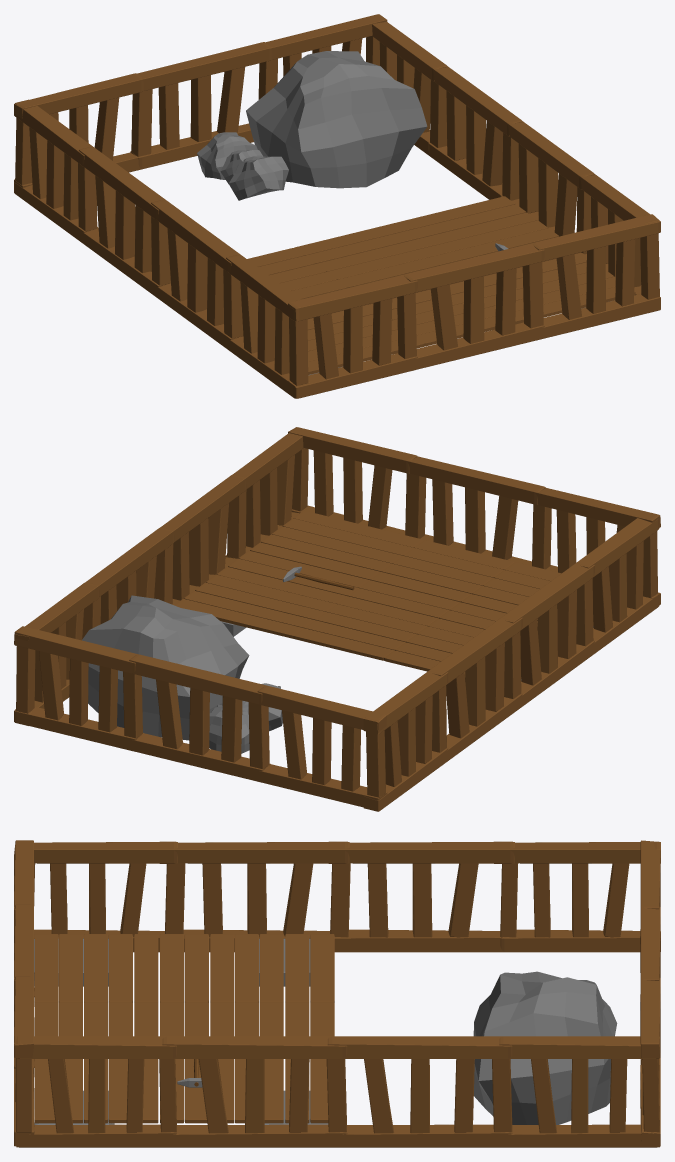
Rendered from SM_StoneQuarry.fbx.
3 views of the same model, one above another, from view 1: azimuth 30°, elevation 25°; view 2: azimuth 150°, elevation 25°; view 3: azimuth 270°, elevation 25° (orthographic). The views are drawn at different scales.
Visible parts, largest first — view 1: SM_FenceSection.001, SM_Boulder_Large_01, SM_FloorBoard_2M.005, SM_FloorBoard_2M.003, SM_FloorBoard_2M.004, SM_FloorBoard_2M.006, SM_Boulder_Small_01.002, SM_FloorBoard_2M.002, SM_Boulder_Small_01, SM_FloorBoard_2M.001, SM_Boulder_Small_01.001; view 2: SM_FenceSection.001, SM_Boulder_Large_01, SM_FloorBoard_2M.003, SM_FloorBoard_2M.005, SM_FloorBoard_2M.004, SM_FloorBoard_2M.006, SM_FloorBoard_2M.001, SM_FloorBoard_2M.002, SM_Boulder_Small_01; view 3: SM_FenceSection.001, SM_Boulder_Large_01, SM_FloorBoard_2M.003, SM_FloorBoard_2M.005, SM_FloorBoard_2M.004, SM_FloorBoard_2M.002, SM_FloorBoard_2M.006, SM_FloorBoard_2M.001.
Part boxes in pixels (x1,y1,x2,y2): SM_FenceSection.001: [14, 14, 660, 398]; SM_Boulder_Large_01: [246, 51, 427, 188]; SM_FloorBoard_2M.005: [258, 204, 547, 290]; SM_FloorBoard_2M.003: [307, 252, 614, 351]; SM_FloorBoard_2M.004: [291, 228, 580, 319]; SM_FloorBoard_2M.006: [247, 196, 514, 266]; SM_Boulder_Small_01.002: [228, 156, 288, 200]; SM_FloorBoard_2M.002: [308, 287, 635, 374]; SM_Boulder_Small_01: [197, 132, 257, 179]; SM_FloorBoard_2M.001: [308, 276, 615, 361]; SM_Boulder_Small_01.001: [220, 150, 262, 184]; SM_FenceSection.001: [14, 427, 660, 811]; SM_Boulder_Large_01: [82, 595, 249, 740]; SM_FloorBoard_2M.003: [250, 526, 593, 625]; SM_FloorBoard_2M.005: [184, 574, 521, 678]; SM_FloorBoard_2M.004: [216, 550, 537, 637]; SM_FloorBoard_2M.006: [174, 599, 465, 677]; SM_FloorBoard_2M.001: [282, 518, 550, 588]; SM_FloorBoard_2M.002: [293, 510, 561, 580]; SM_Boulder_Small_01: [209, 704, 249, 753]; SM_FenceSection.001: [14, 840, 660, 1147]; SM_Boulder_Large_01: [473, 971, 617, 1124]; SM_FloorBoard_2M.003: [84, 934, 158, 1123]; SM_FloorBoard_2M.005: [235, 934, 309, 1123]; SM_FloorBoard_2M.004: [160, 934, 234, 1123]; SM_FloorBoard_2M.002: [34, 934, 58, 1123]; SM_FloorBoard_2M.006: [310, 934, 334, 1123]; SM_FloorBoard_2M.001: [59, 934, 82, 1123].
Bounding box in the file's own units: 600 × 805 × 167.
